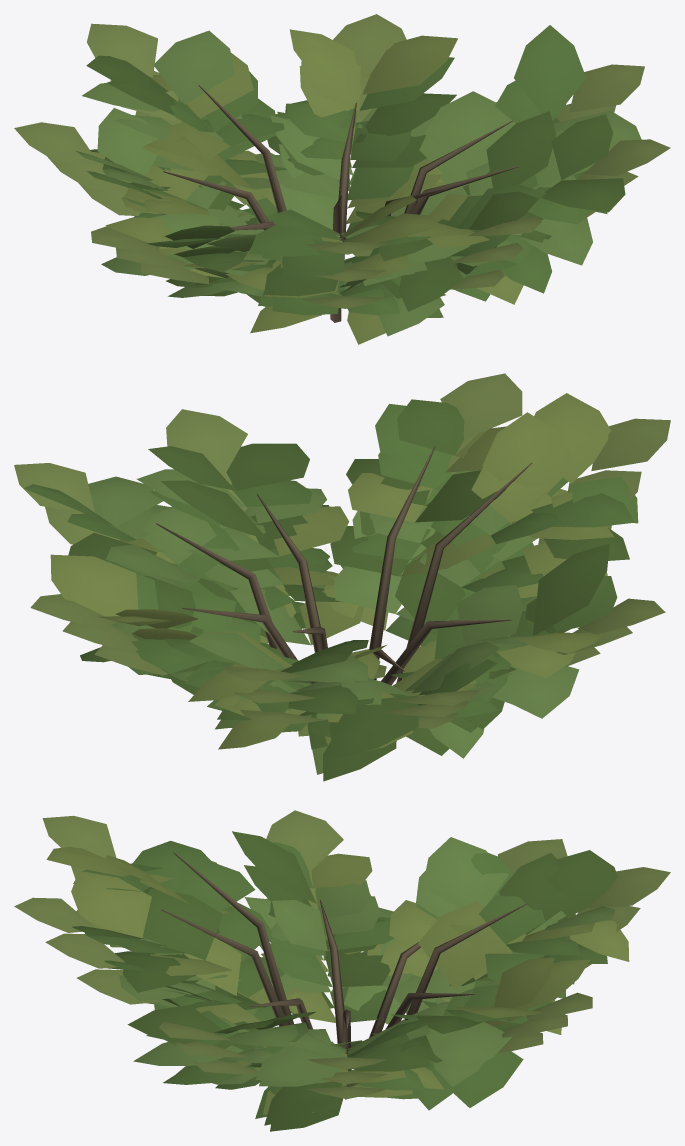
Rendered from underwood-0.glb.
The picture shows the model from 3 angles, top to bottom: view 1: azimuth 30°, elevation 25°; view 2: azimuth 150°, elevation 25°; view 3: azimuth 270°, elevation 25°; orthographic projection. The views are drawn at different scales.
Visible parts, largest first — view 1: LAND02 underwood-0; view 2: LAND02 underwood-0; view 3: LAND02 underwood-0.
Boxes of the visible parts, x1,y1,x2,y2 form: LAND02 underwood-0: [14, 14, 670, 344]; LAND02 underwood-0: [14, 373, 670, 781]; LAND02 underwood-0: [14, 810, 670, 1131].
Size of the model in its own units: 2.74 by 0.9028 by 2.77.
